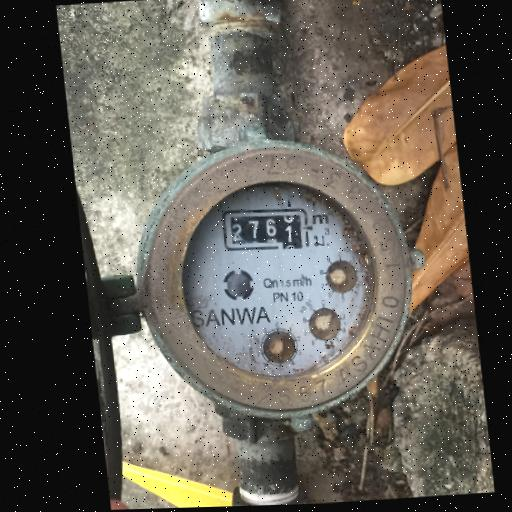1: (279, 214, 303, 249)
2: (229, 215, 247, 244)
6: (260, 215, 281, 242)
7: (244, 215, 263, 242)
border_water_meter_number: (220, 204, 310, 254)
